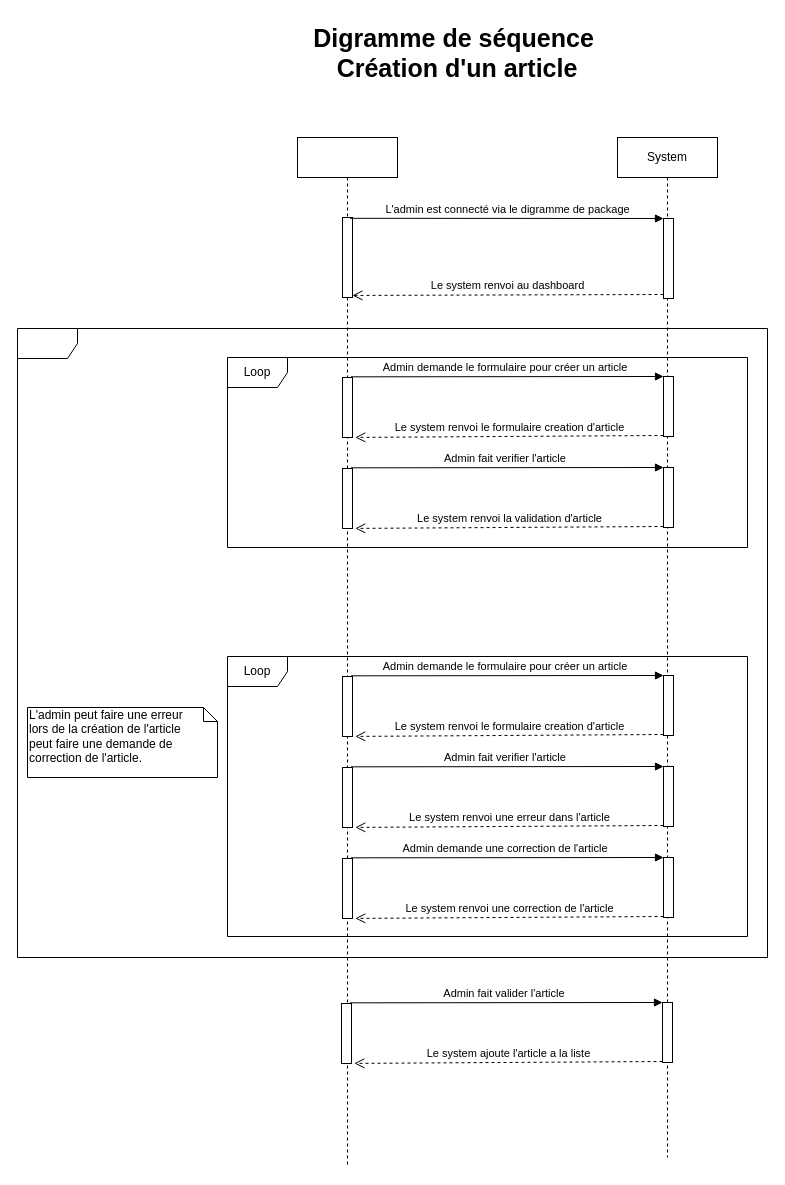
Some shapes in this 785 by 1185 pixel diagram are drawn without their labels. Here are the shapes that lost their labels. From the top down, the box of each, then its label:
(296, 136, 398, 1168): Admin
(16, 328, 768, 958): alt
